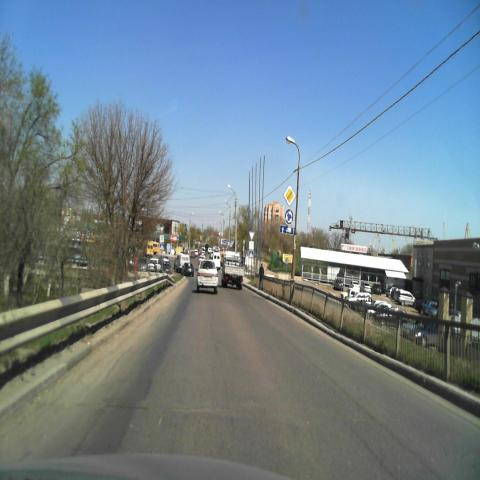4_3: (284, 208, 294, 226)
6_15_1: (280, 225, 294, 235)
